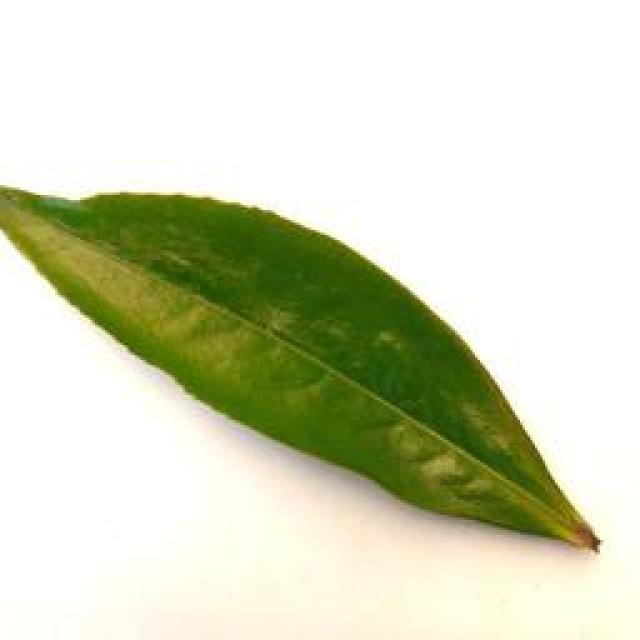Healthy: (0, 178, 602, 556)
